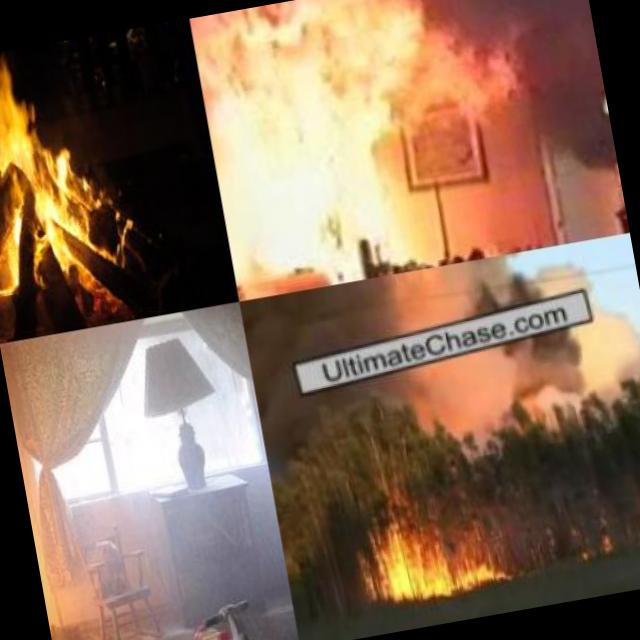fire: (188, 0, 469, 300), (0, 57, 111, 298), (343, 506, 508, 614), (570, 530, 612, 560), (629, 510, 640, 541)
smoke: (428, 334, 640, 434)
